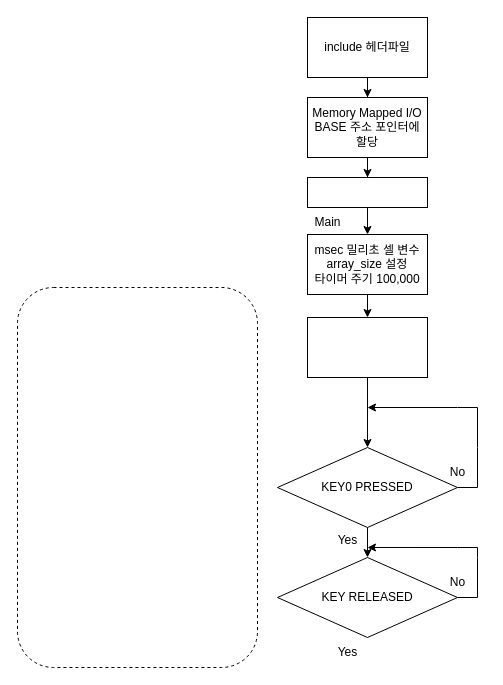
This 503x685 diagram has some shape labels left out. The shapes that lost their labels are listed below. From the top down, each one's box as (x1, y1, x2, y2) in pixels, then its label:
(306, 176, 428, 208): 사용할 함수 우선 선언
(306, 316, 428, 378): array 메모리 동적 할당 rand()로 요소 초기화
